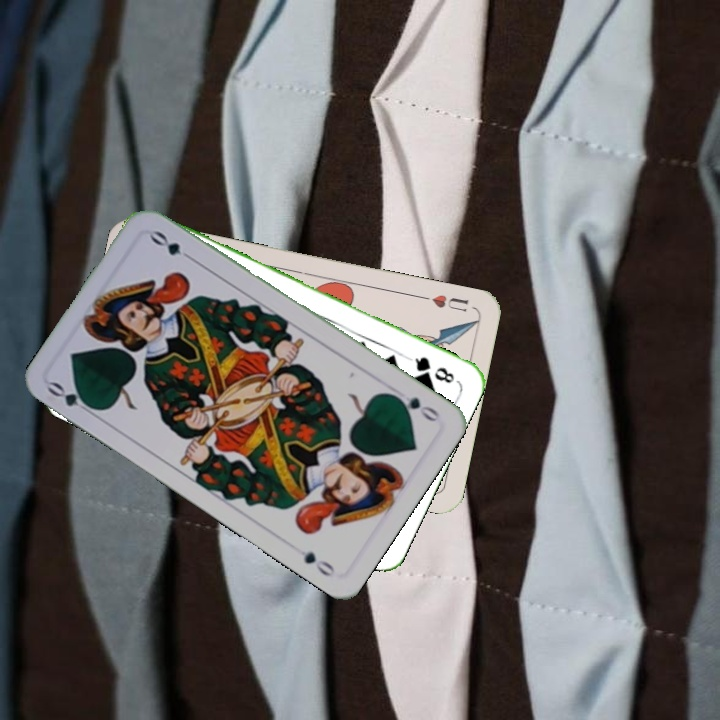G8: (404, 352, 457, 386)
GO: (43, 377, 100, 419), (388, 390, 443, 425)
HU: (417, 290, 472, 315)
